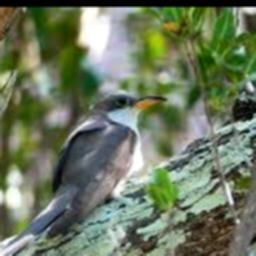Cuckoo: (1, 90, 166, 250)
